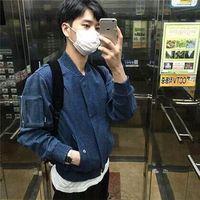OK: (70, 17, 108, 55)
